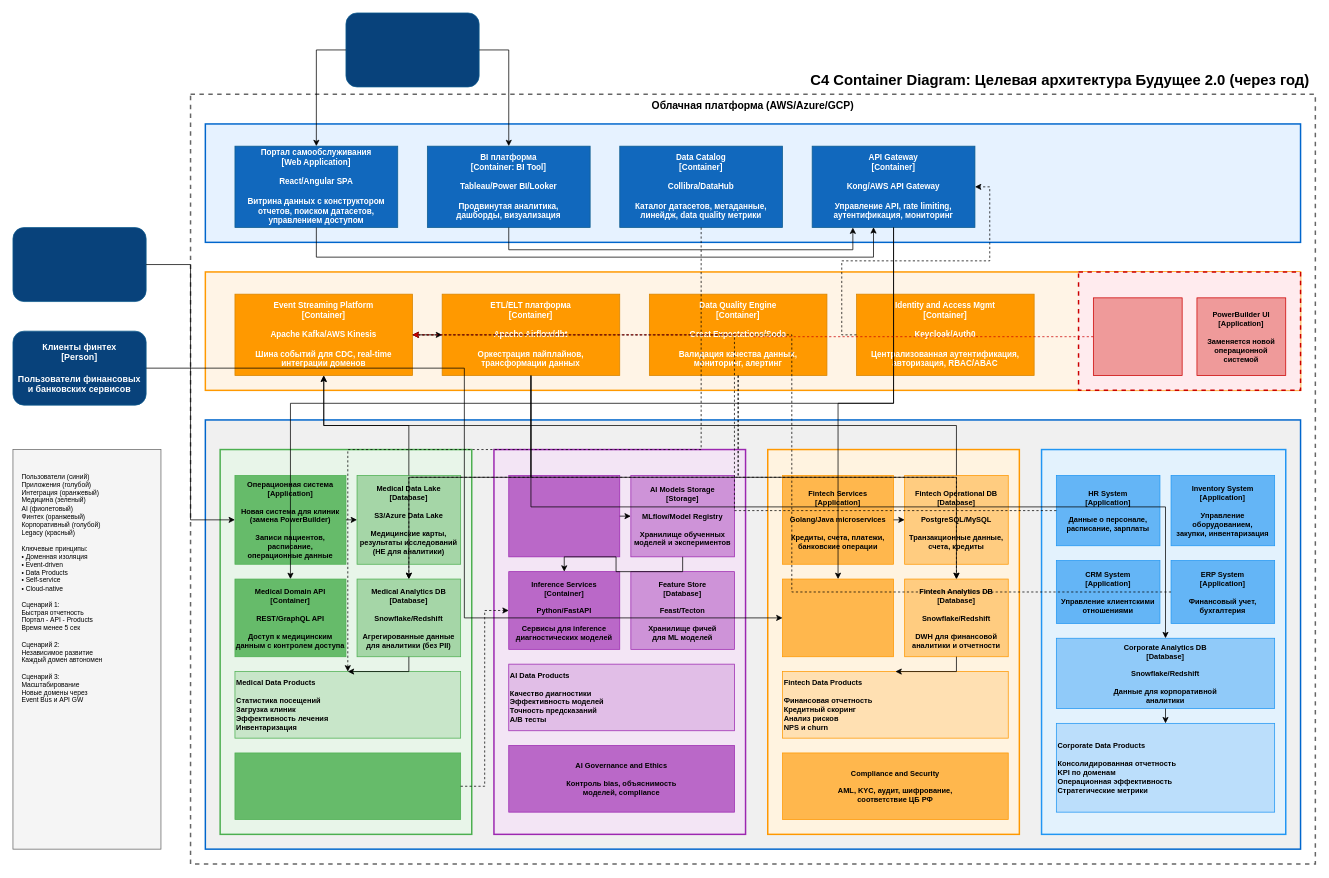
The diagram is 1329 pixels wide and 878 high, and some of its shapes have lost their labels. Here are the shapes that lost their labels. From the top down, the box of each, then its label:
(345, 12, 479, 87): Бизнес-пользователи [Person] Аналитики, менеджеры, руководители доменов
(204, 123, 1301, 243): Слой самообслуживания и визуализации
(12, 227, 146, 302): Медицинский персонал [Person] Врачи, медсестры, операторы клиник
(204, 271, 1301, 391): Слой интеграции и обработки событий
(1093, 297, 1182, 376): Legacy DWH [Database] SQL Server 2008 Мигрируется в домены постепенно
(1077, 271, 1301, 391): Legacy системы (временно, миграция в процессе)
(508, 475, 620, 557): ML Platform [Platform] Kubeflow/SageMaker Обучение и деплой ML моделей
(204, 419, 1301, 850): Data Mesh - Доменно-ориентированная архитектура данных
(782, 578, 894, 657): Fintech Domain API [Container] REST API Финансовые операции, Open Banking API
(12, 449, 161, 849): Легенда и ключевые сценарии
(219, 448, 472, 835): Медицинский домен
(493, 448, 746, 835): AI домен
(767, 448, 1020, 835): Финтех домен
(1040, 448, 1286, 835): Корпоративный домен
(234, 752, 461, 820): AI Services Integration Интеграция с AI доменом для диагностики
